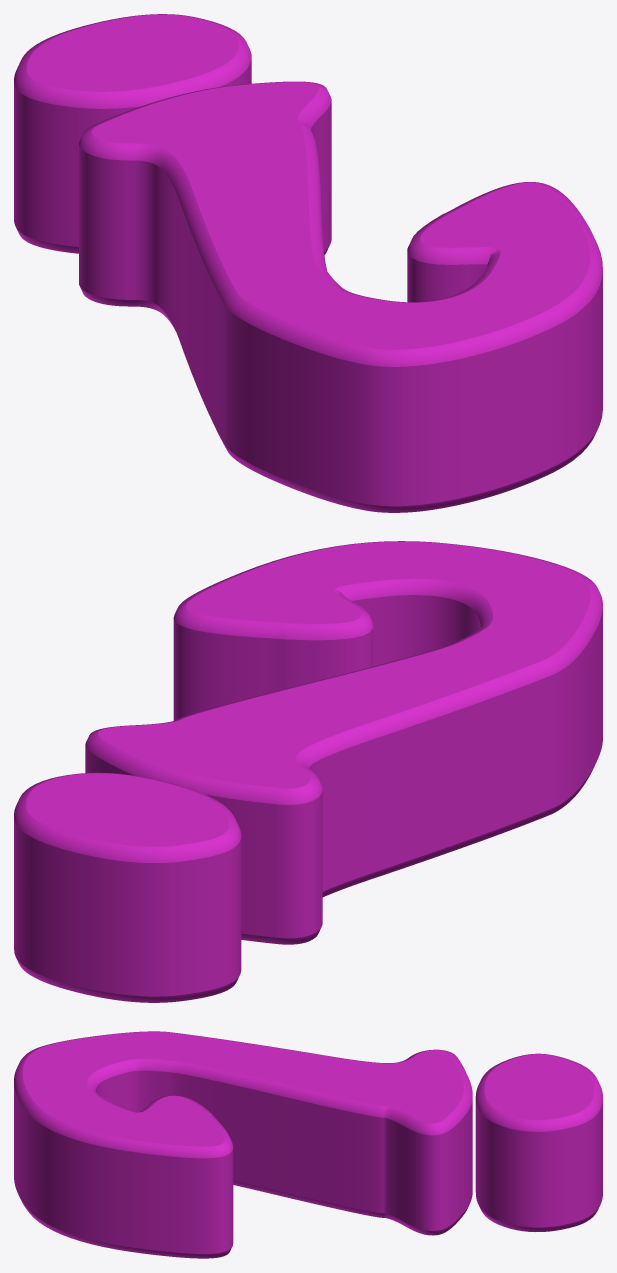
Rendered from Bubble_QuestionMark.fbx.
3 renders of one model, top to bottom at view 1: azimuth 30°, elevation 25°; view 2: azimuth 150°, elevation 25°; view 3: azimuth 270°, elevation 25°, orthographic. The views are drawn at different scales.
Parts seen in each view (by area): view 1: BubbleQuestionMark; view 2: BubbleQuestionMark; view 3: BubbleQuestionMark.
Part boxes in pixels (box(x1,y1,x2,y2)): BubbleQuestionMark: box(14, 14, 602, 512); BubbleQuestionMark: box(14, 541, 602, 1002); BubbleQuestionMark: box(14, 1031, 602, 1258).
Bounding box in the file's own units: 0.3292 × 0.14 × 0.6694.
